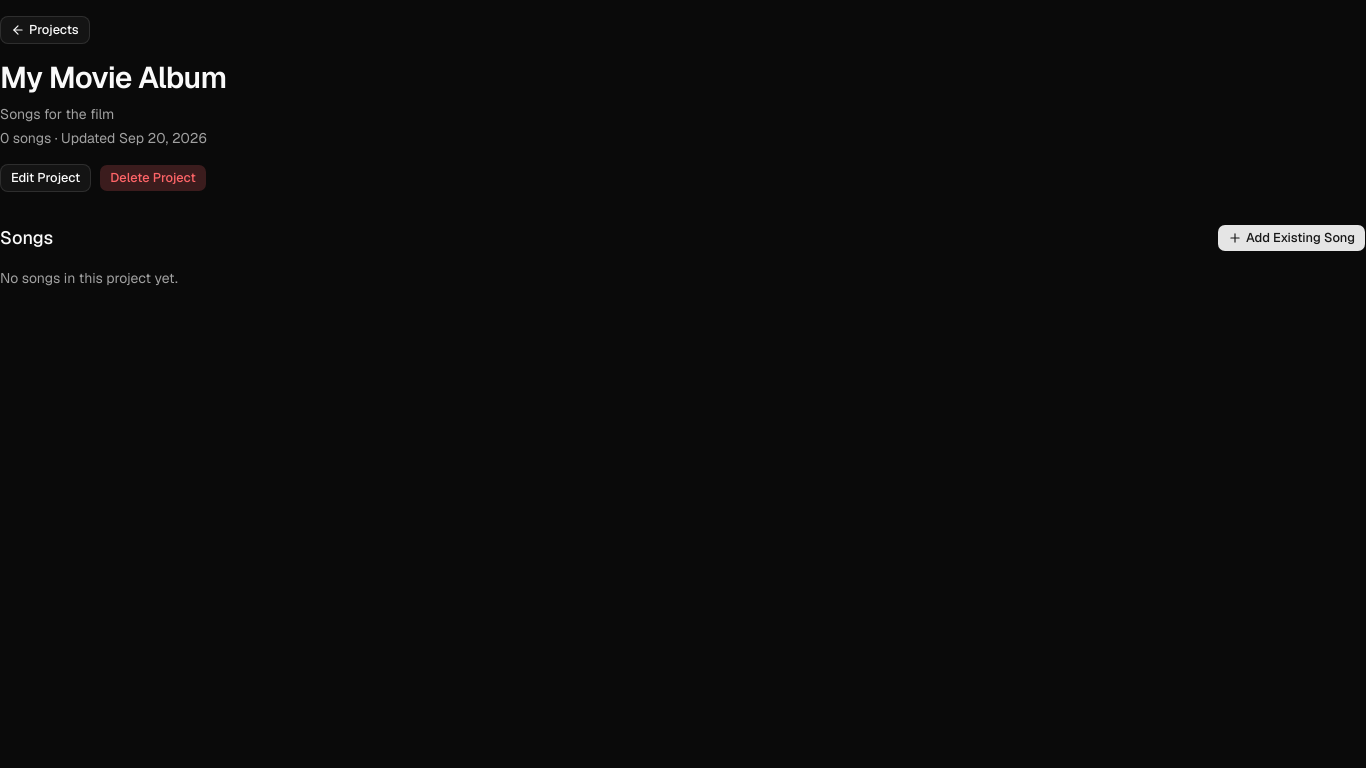
Test: ProjectDetailsView › Cancel on the delete confirmation makes no request
Expected: the heading "My Movie Album" is shown, [0,58,226,97]
Click the button "Delete Project".
click(153, 178)  # box [99,164,207,192]
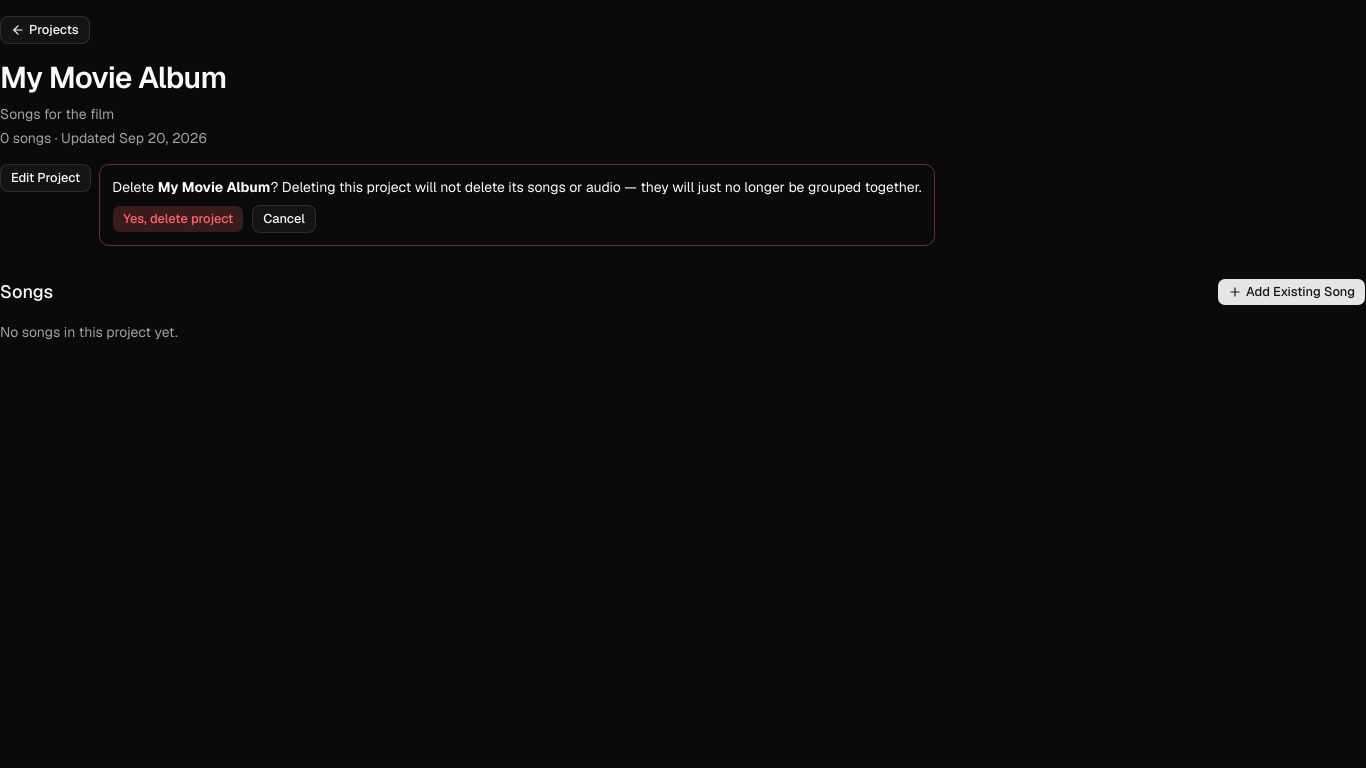
Click the button "Cancel".
click(284, 219)  # box [252,205,316,233]
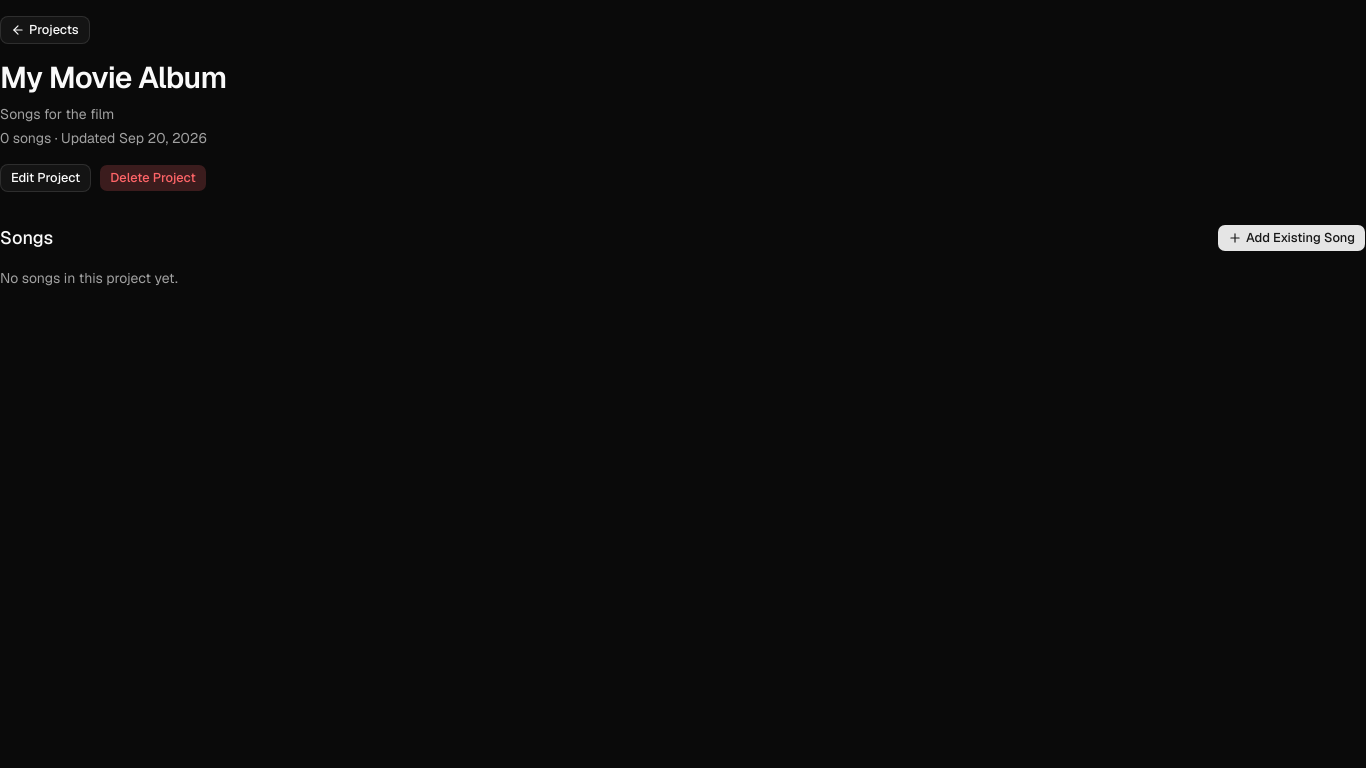
Expected: the dialog with test id "delete-project-confirm" is gone
